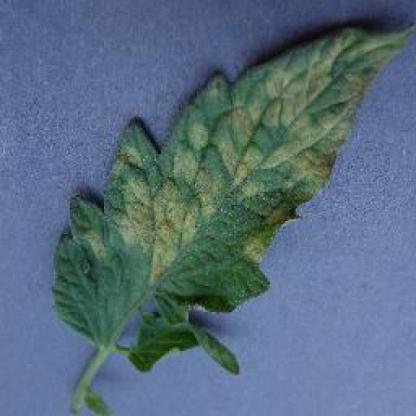Tomato_Leaf_Mold: (54, 27, 410, 336)
